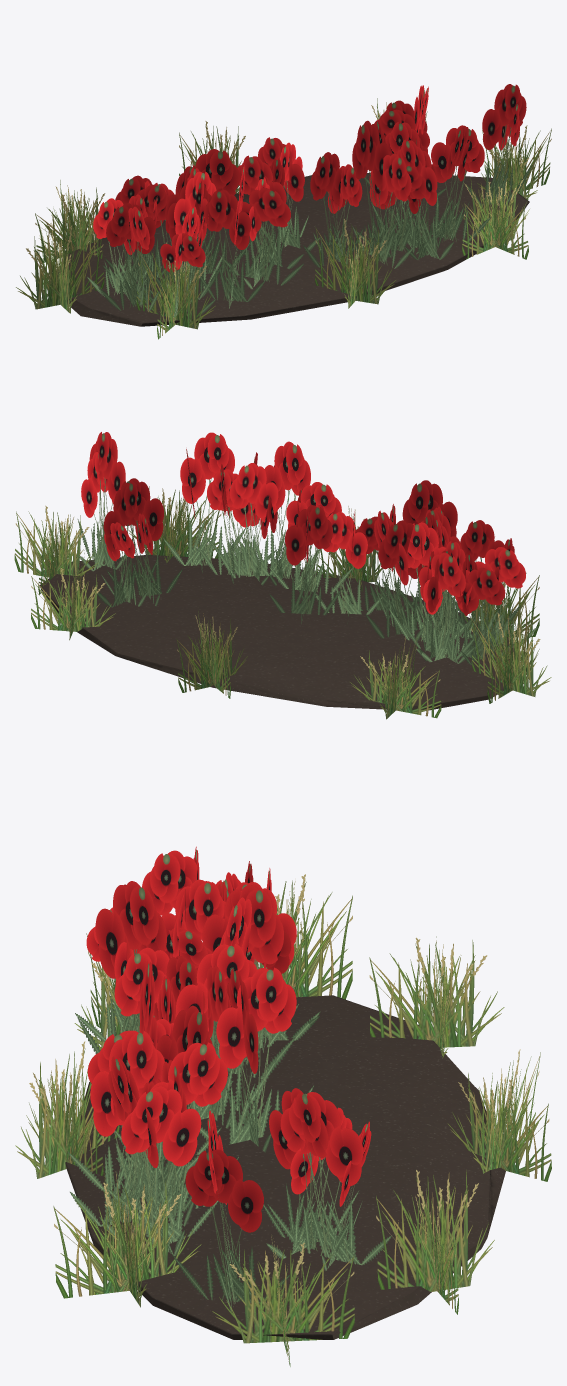
File: PoppyBed.fbx
3 renders of one model, top to bottom at view 1: azimuth 30°, elevation 25°; view 2: azimuth 150°, elevation 25°; view 3: azimuth 270°, elevation 25°, orthographic. The views are drawn at different scales.
Visible parts, largest first — view 1: PoppyBed_Leaves, PoppyBed_Main; view 2: PoppyBed_Leaves, PoppyBed_Main; view 3: PoppyBed_Leaves, PoppyBed_Main.
Part boxes in pixels (x1,y1,x2,y2): PoppyBed_Leaves: (16, 84, 551, 339); PoppyBed_Main: (57, 173, 529, 326); PoppyBed_Leaves: (14, 432, 551, 719); PoppyBed_Main: (40, 555, 516, 710); PoppyBed_Leaves: (15, 846, 551, 1366); PoppyBed_Main: (65, 995, 505, 1339).
Size of the model in its own units: 709 by 262 by 397.
